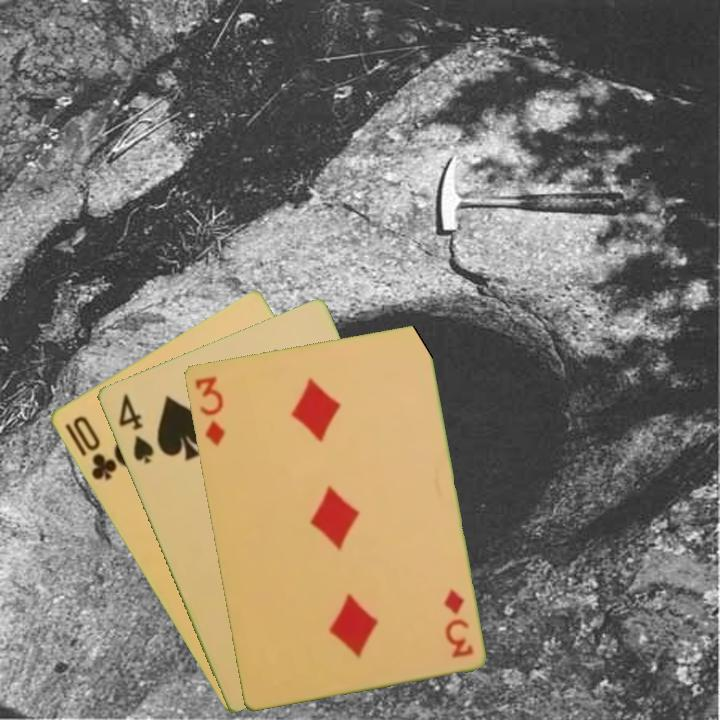10c: (68, 412, 119, 483)
3d: (191, 372, 228, 449), (440, 585, 476, 661)
4s: (114, 389, 157, 467)
